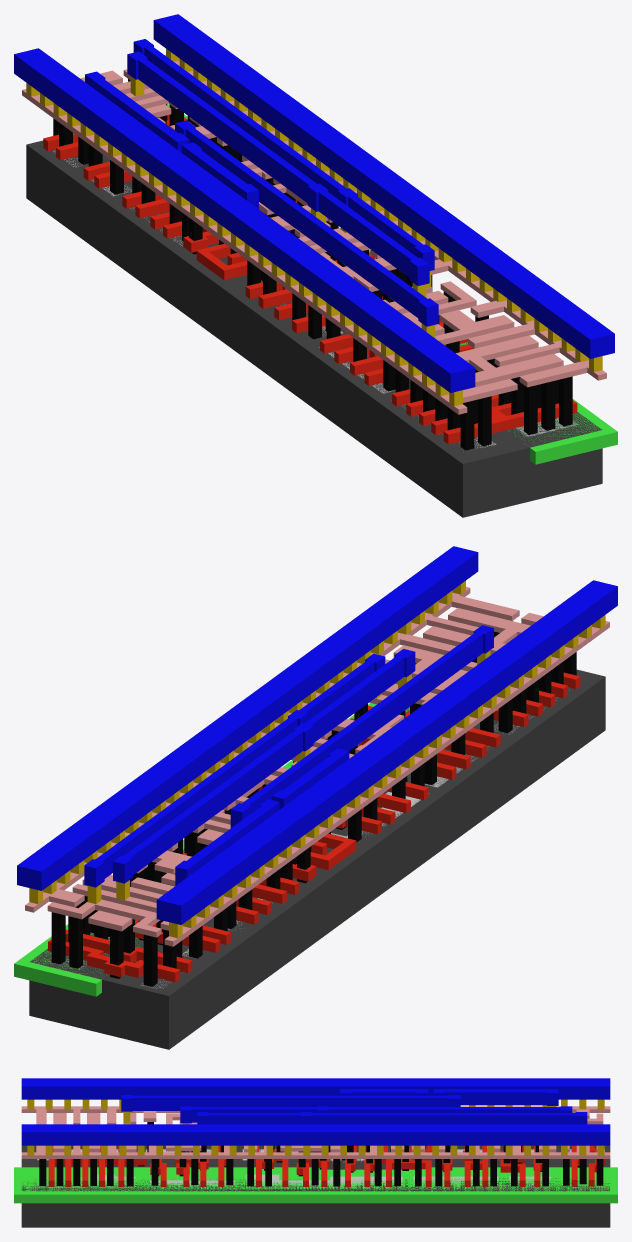
File: sky130_fd_sc_hd__sedfxtp_4.obj
3 renders of one model, top to bottom at view 1: azimuth 30°, elevation 25°; view 2: azimuth 150°, elevation 25°; view 3: azimuth 270°, elevation 25°, orthographic. The views are drawn at different scales.
Parts seen in each view (by area): view 1: metal1, subs, li, licon, poly, mcon, nwell; view 2: metal1, subs, li, licon, poly, mcon, nwell; view 3: metal1, subs, nwell, li, poly, licon, mcon, tap, diff.
Part boxes in pixels (x1,y1,x2,y2): metal1: [14, 14, 614, 392]; subs: [26, 140, 602, 517]; li: [22, 55, 606, 414]; licon: [53, 79, 572, 450]; poly: [43, 114, 577, 444]; mcon: [26, 49, 602, 406]; nwell: [167, 104, 617, 464]; metal1: [17, 546, 617, 924]; subs: [29, 669, 605, 1049]; li: [25, 587, 609, 946]; licon: [51, 631, 576, 986]; poly: [48, 672, 580, 982]; mcon: [29, 581, 605, 938]; nwell: [14, 703, 409, 996]; metal1: [21, 1078, 610, 1145]; subs: [21, 1145, 610, 1227]; nwell: [14, 1167, 617, 1203]; li: [21, 1106, 610, 1158]; poly: [48, 1145, 605, 1186]; licon: [39, 1122, 603, 1186]; mcon: [27, 1099, 604, 1155]; tap: [48, 1174, 578, 1187]; diff: [37, 1149, 604, 1162].
Bounding box in the file's own units: 3.2 × 2.74 × 15.1.
